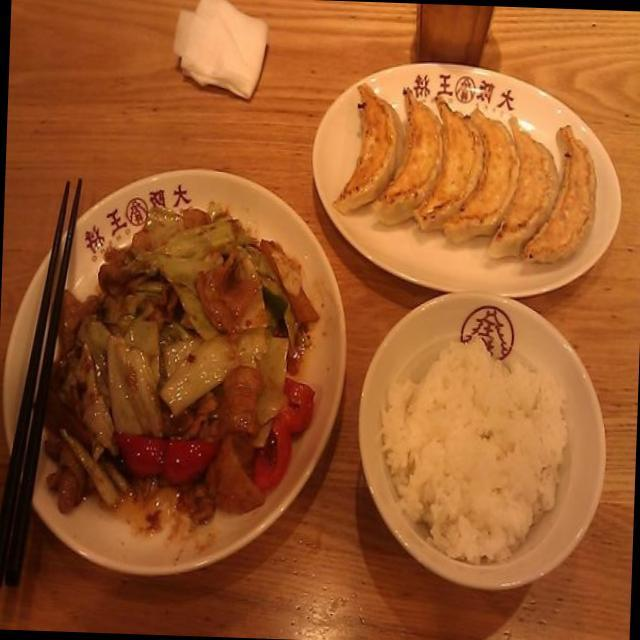Rice: (369, 322, 566, 556)
